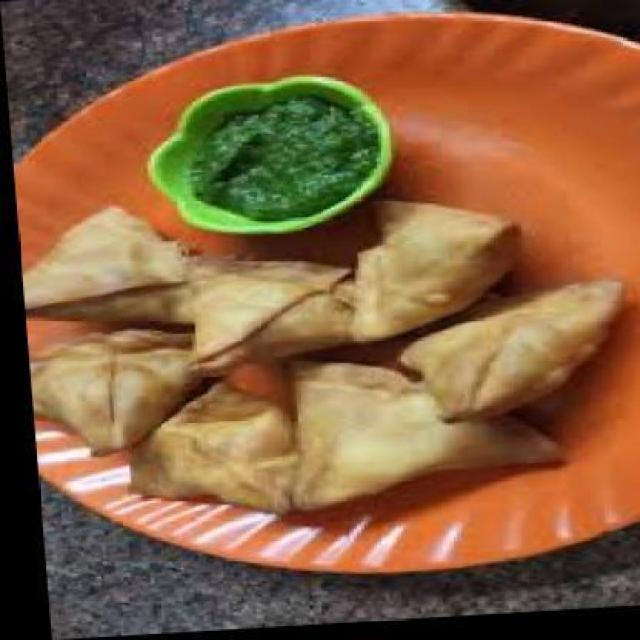samosa: (276, 351, 562, 514), (389, 286, 626, 432), (338, 197, 520, 346), (115, 382, 292, 522), (23, 328, 212, 457), (14, 203, 200, 334), (177, 250, 360, 378)
